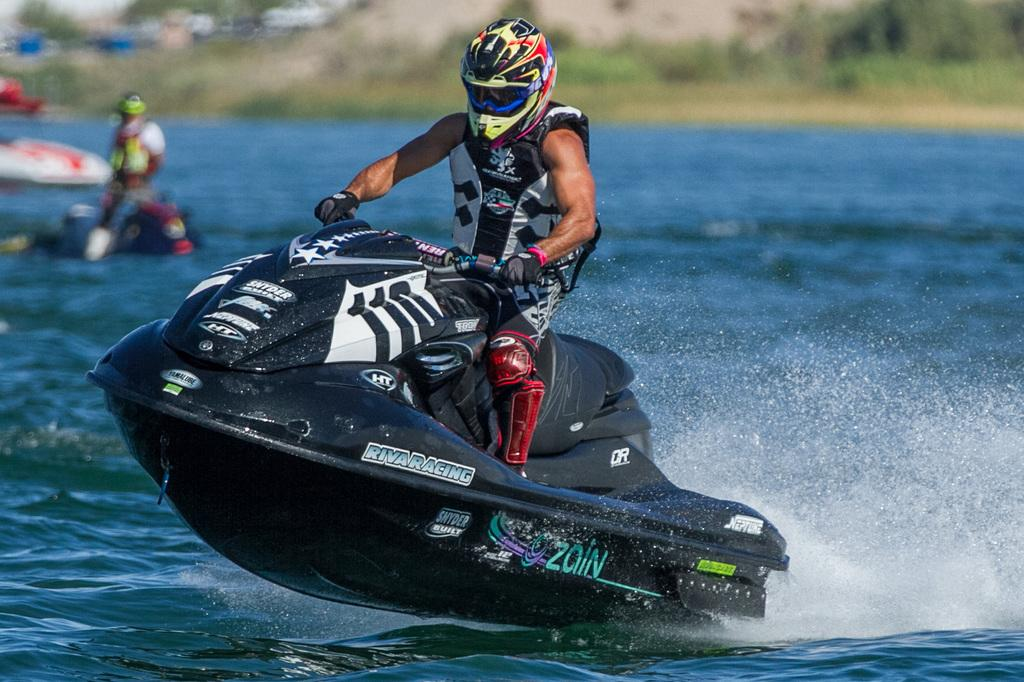helmet: (460, 17, 558, 150)
